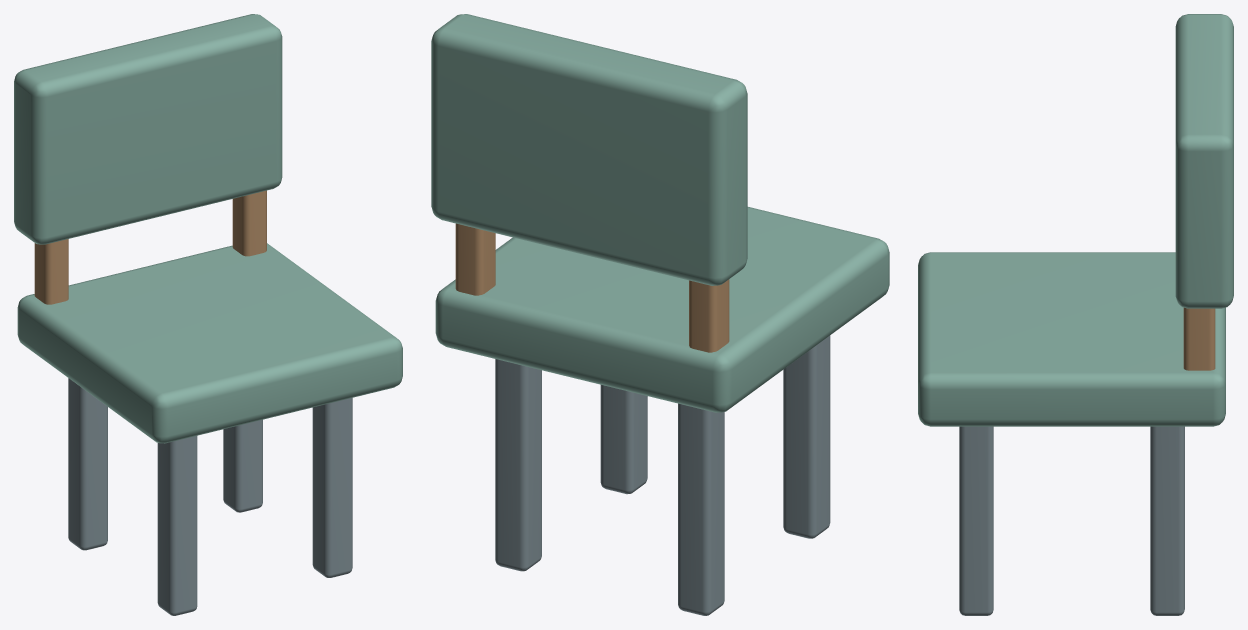
File: alpha_chair.glb
3 renders of one model, left to right at view 1: azimuth 30°, elevation 25°; view 2: azimuth 150°, elevation 25°; view 3: azimuth 270°, elevation 25°, orthographic. The views are drawn at different scales.
Parts seen in each view (by area): view 1: Alpha_sage, Alpha_metal, Alpha_oak; view 2: Alpha_sage, Alpha_metal, Alpha_oak; view 3: Alpha_sage, Alpha_metal, Alpha_oak.
Part boxes in pixels (box(x1,y1,x2,y2)): Alpha_sage: box(14, 14, 402, 443); Alpha_metal: box(68, 378, 352, 615); Alpha_oak: box(34, 190, 266, 304); Alpha_sage: box(431, 14, 889, 412); Alpha_metal: box(495, 335, 830, 615); Alpha_oak: box(455, 223, 729, 352); Alpha_sage: box(918, 14, 1233, 426); Alpha_metal: box(959, 426, 1184, 615); Alpha_oak: box(1183, 307, 1215, 370).
Size of the model in its own units: 0.58 by 1.03 by 0.595.
